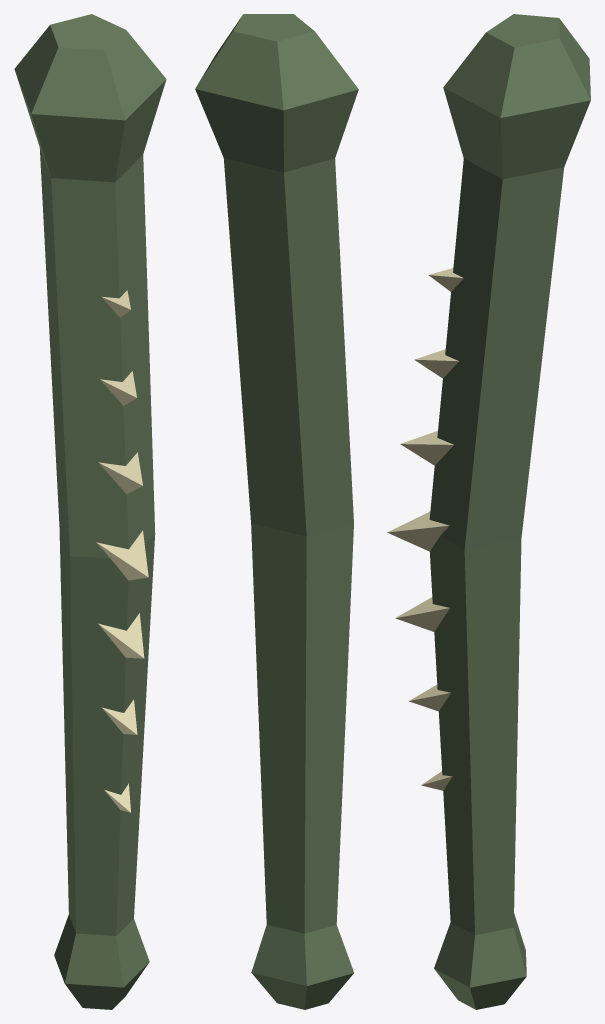
File: LarvaeLegUpperRB.fbx
3 views of the same model, side by side, from view 1: azimuth 30°, elevation 25°; view 2: azimuth 150°, elevation 25°; view 3: azimuth 270°, elevation 25° (orthographic). The views are drawn at different scales.
Visible parts, largest first — view 1: Arm7; view 2: Arm7; view 3: Arm7.
Part boxes in pixels (x1,y1,x2,y2): Arm7: [14, 14, 166, 1009]; Arm7: [195, 14, 358, 1009]; Arm7: [387, 14, 590, 1009].
Size of the model in its own units: 1.2 by 8.01 by 1.52.
